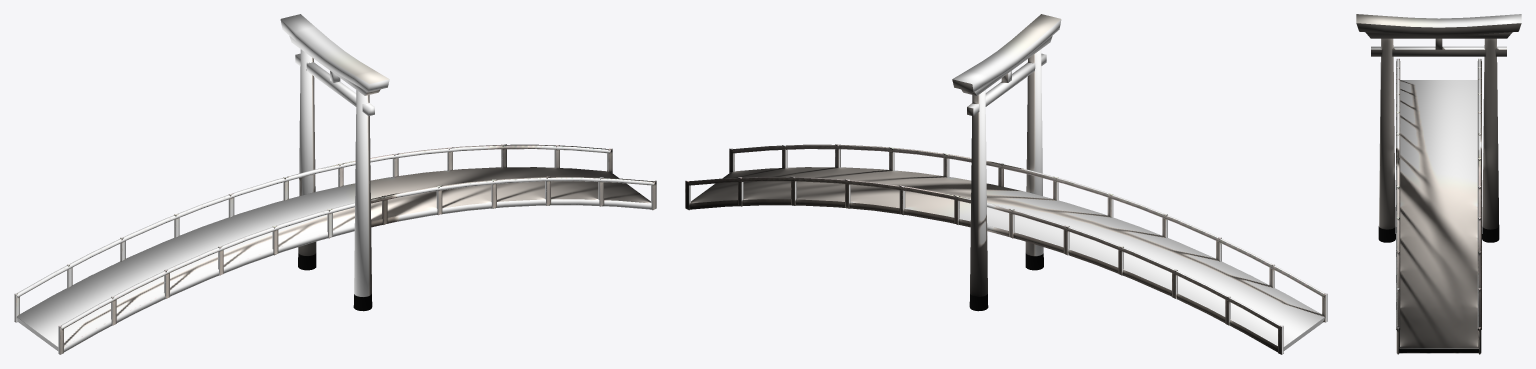
File: bridge_a_bake.glb
The picture shows the model from 3 angles, left to right: view 1: azimuth 30°, elevation 25°; view 2: azimuth 150°, elevation 25°; view 3: azimuth 270°, elevation 25°; orthographic projection. The views are drawn at different scales.
Visible parts, largest first — view 1: Bridge.001, Torri; view 2: Bridge.001, Torri; view 3: Bridge.001, Torri.
Part boxes in pixels (x1=…): Bridge.001: x1=14, y1=144, x2=656, y2=354; Torri: x1=280, y1=14, x2=389, y2=311; Bridge.001: x1=685, y1=144, x2=1327, y2=354; Torri: x1=952, y1=14, x2=1061, y2=311; Bridge.001: x1=1396, y1=58, x2=1481, y2=354; Torri: x1=1356, y1=14, x2=1521, y2=242.
Size of what is drawn, in the model's own units: 37.12 by 14.12 by 9.59.
Materials: 2 (2 with a texture image).
